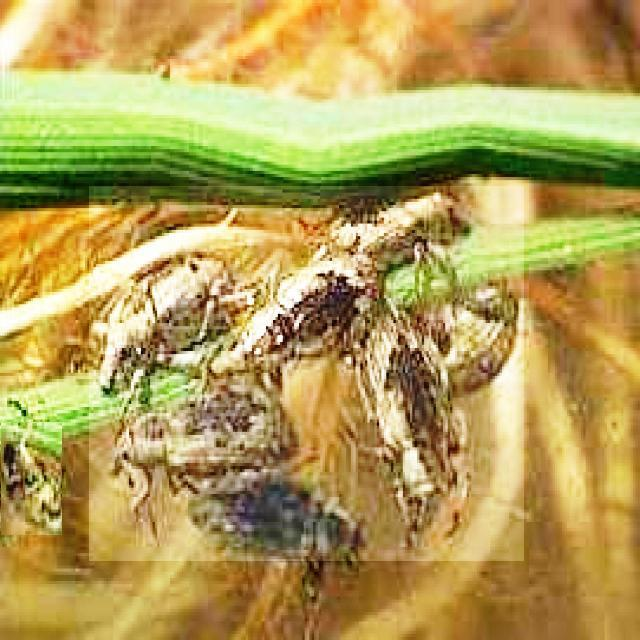rice-bug: (89, 187, 524, 561), (1, 422, 62, 535)
